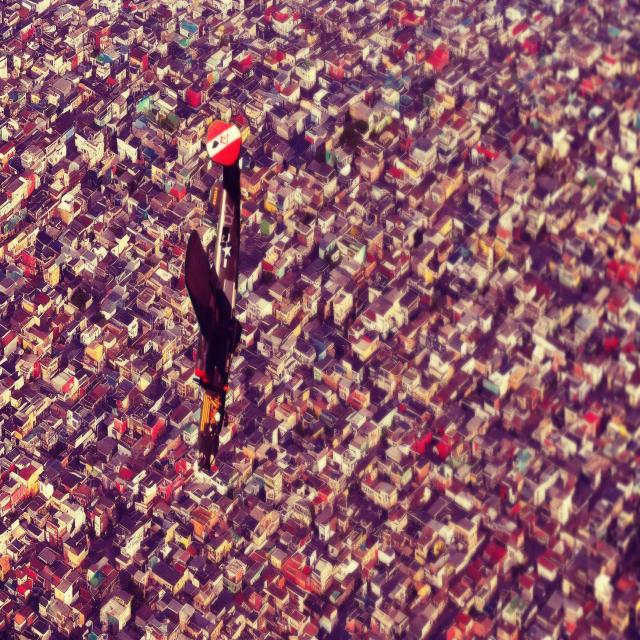airplane: (184, 119, 242, 469)
